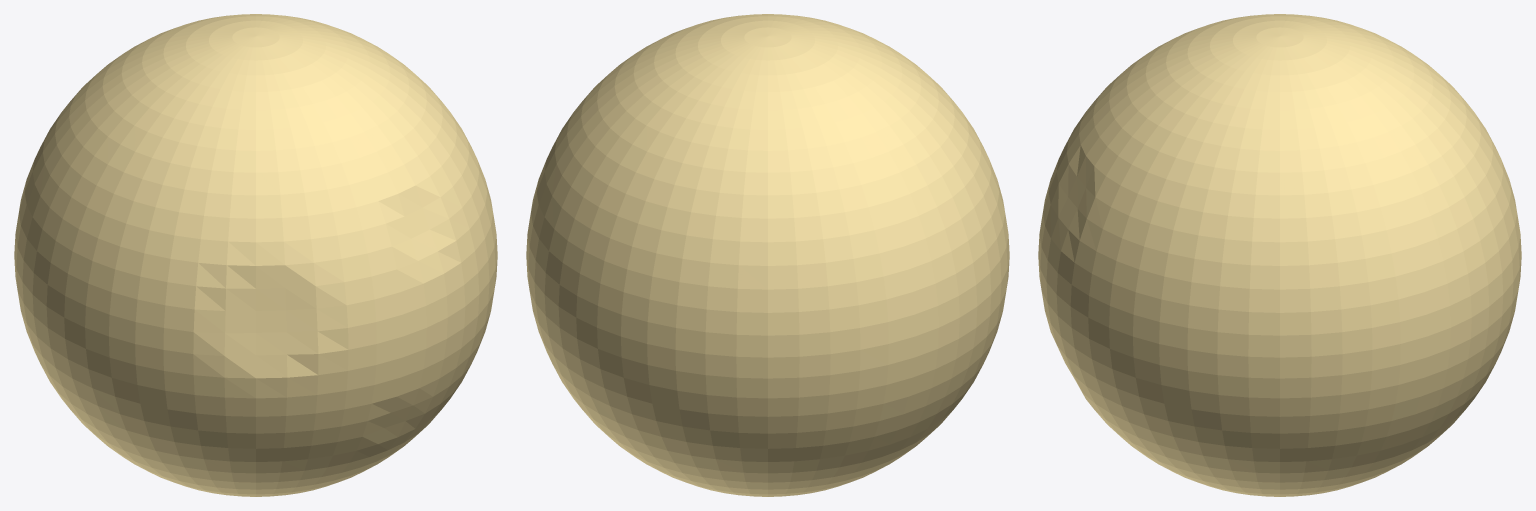
File: 05_full_moon.obj
3 renders of one model, left to right at view 1: azimuth 30°, elevation 25°; view 2: azimuth 150°, elevation 25°; view 3: azimuth 270°, elevation 25°, orthographic.
Parts seen in each view (by area): view 1: Full_Moon; view 2: Full_Moon; view 3: Full_Moon.
Boxes of the visible parts, x1,y1,x2,y2 form: Full_Moon: (14, 14, 497, 496); Full_Moon: (526, 14, 1009, 496); Full_Moon: (1038, 14, 1521, 496).
Bounding box in the file's own units: 2.4 × 2.4 × 2.4.
